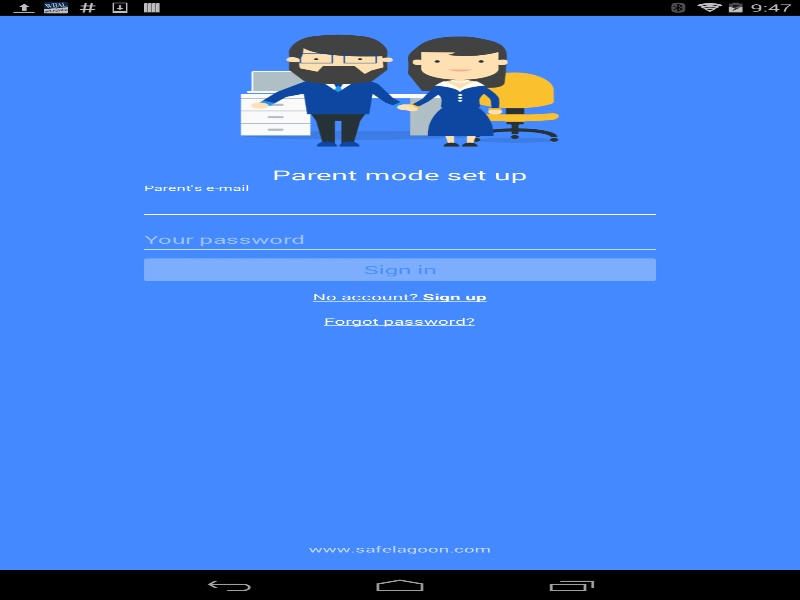Button: (138, 254, 661, 284), (296, 284, 502, 309), (308, 309, 491, 333)
Input: (138, 190, 661, 219), (138, 226, 661, 254)
